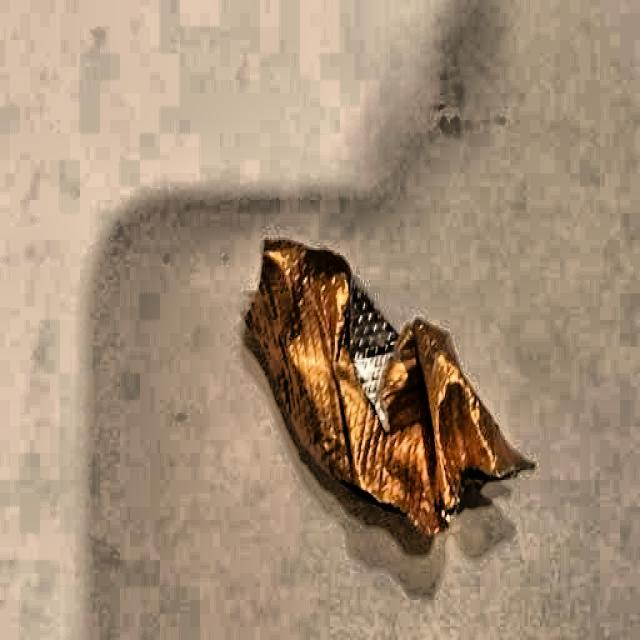metal: (239, 234, 539, 537)
